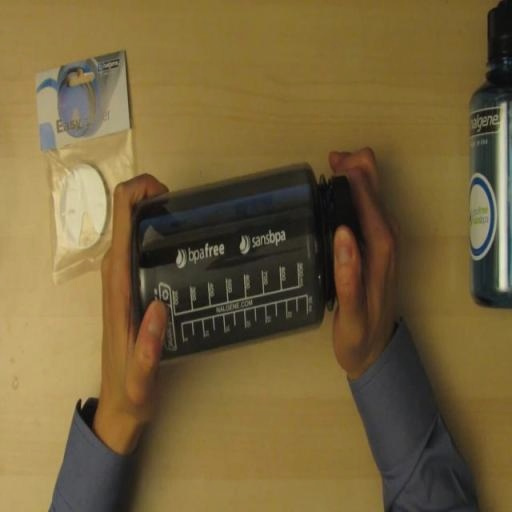bottle: (132, 158, 358, 376)
